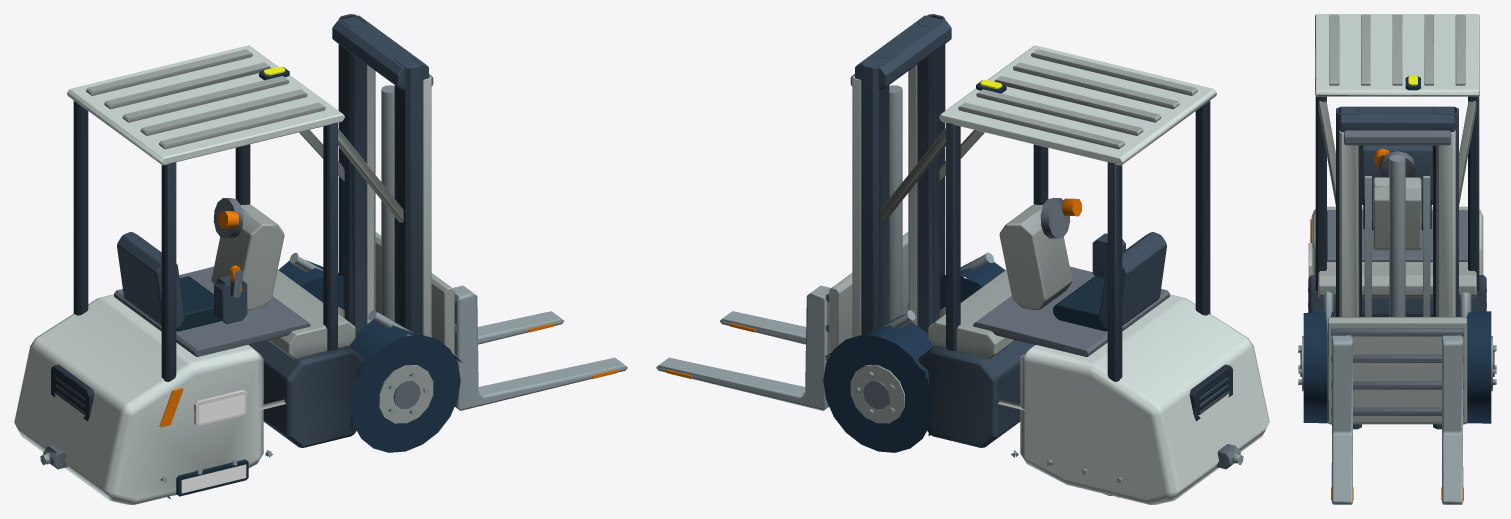
File: chariot-elevateur.glb
3 renders of one model, left to right at view 1: azimuth 30°, elevation 25°; view 2: azimuth 150°, elevation 25°; view 3: azimuth 270°, elevation 25°, orthographic. The views are drawn at different scales.
Parts seen in each view (by area): view 1: corps__gris_clair, corps__bleu_nuit, corps__gris_clair2, corps__bleu_nuit3, corps__bleu_fonce, carriage__gris_clair3, inner_mast__gris_clair, inner_mast__gris_clair3, corps__bleu_nuit2, carriage__gris_clair2, corps__blanc, corps__gris_clair3 (+1 smaller); view 2: corps__gris_clair, corps__bleu_nuit, corps__gris_clair2, corps__bleu_nuit3, corps__bleu_fonce, carriage__gris_clair3, inner_mast__gris_clair, inner_mast__gris_clair3, corps__bleu_nuit2, carriage__gris_clair2, corps__gris_clair3; view 3: corps__bleu_nuit, corps__gris_clair, corps__gris_clair2, carriage__gris_clair2, carriage__gris_clair3, inner_mast__gris_clair, corps__bleu_nuit3, inner_mast__gris_clair3, carriage__bleu_fonce, corps__bleu_fonce, inner_mast__bleu_fonce, corps__gris_clair3 (+1 smaller).
Boxes of the visible parts, box(x1,y1,x2,y2) form: corps__gris_clair: box(14, 45, 344, 504); corps__bleu_nuit: box(51, 14, 428, 447); corps__gris_clair2: box(86, 49, 433, 423); corps__bleu_nuit3: box(167, 260, 462, 499); corps__bleu_fonce: box(43, 198, 420, 469); carriage__gris_clair3: box(453, 285, 627, 410); inner_mast__gris_clair: box(366, 65, 431, 337); inner_mast__gris_clair3: box(381, 85, 394, 321); corps__bleu_nuit2: box(55, 67, 289, 496); carriage__gris_clair2: box(375, 232, 454, 354); corps__blanc: box(181, 394, 246, 493); corps__gris_clair3: box(40, 253, 430, 482); corps__gris_clair: box(939, 45, 1269, 504); corps__bleu_nuit: box(855, 14, 1232, 447); corps__gris_clair2: box(850, 49, 1197, 423); corps__bleu_nuit3: box(823, 259, 1118, 497); corps__bleu_fonce: box(863, 198, 1240, 469); carriage__gris_clair3: box(656, 285, 830, 410); inner_mast__gris_clair: box(852, 65, 917, 337); inner_mast__gris_clair3: box(889, 85, 902, 321); corps__bleu_nuit2: box(976, 80, 1228, 414); carriage__gris_clair2: box(829, 232, 908, 356); corps__gris_clair3: box(853, 252, 1243, 482); corps__bleu_nuit: box(1308, 96, 1486, 429); corps__gris_clair: box(1311, 14, 1483, 274); corps__gris_clair2: box(1302, 14, 1492, 391); carriage__gris_clair2: box(1327, 317, 1467, 424); carriage__gris_clair3: box(1331, 335, 1463, 504); inner_mast__gris_clair: box(1339, 129, 1455, 316); corps__bleu_nuit3: box(1303, 311, 1491, 423); inner_mast__gris_clair3: box(1364, 155, 1430, 316); carriage__bleu_fonce: box(1331, 328, 1463, 415); corps__bleu_fonce: box(1300, 151, 1494, 376); inner_mast__bleu_fonce: box(1344, 130, 1450, 145); corps__gris_clair3: box(1298, 287, 1496, 385).
Size of the model in its own units: 3.47 by 2.22 by 1.25.
